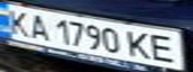0: (100, 25, 124, 55)
1: (48, 16, 72, 45)
7: (66, 19, 87, 47)
9: (81, 21, 103, 52)
A: (24, 11, 54, 42)
E: (145, 31, 187, 64)
K: (124, 29, 154, 61), (3, 6, 33, 37)
